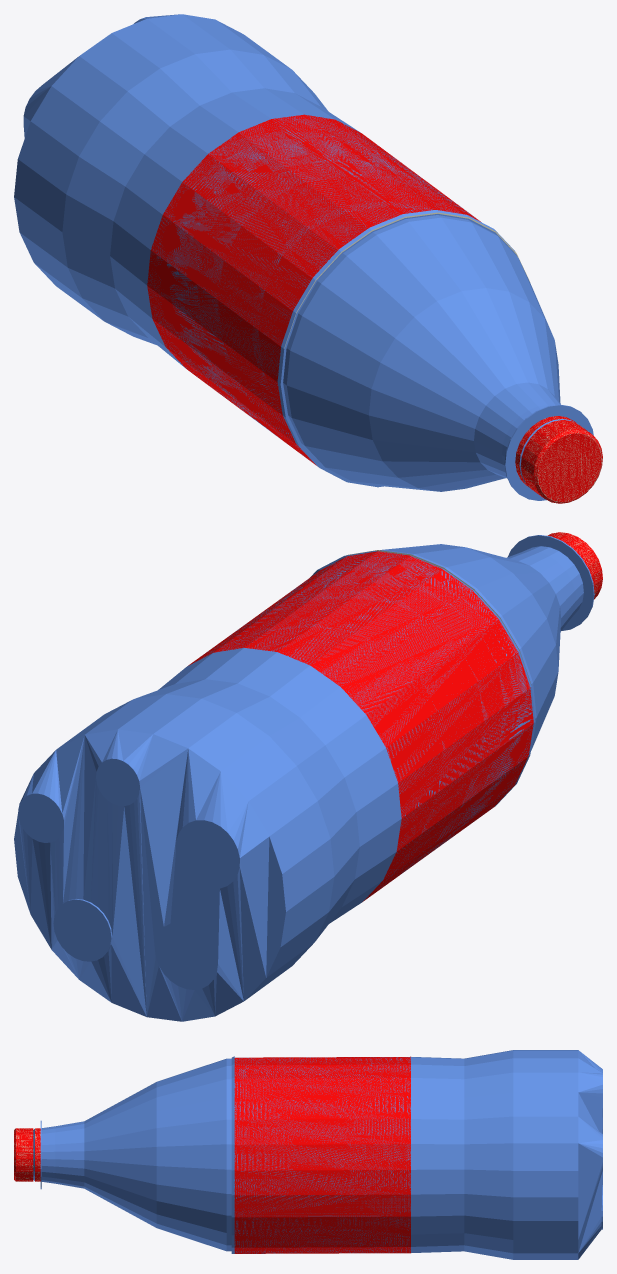
3 renders of one model, top to bottom at view 1: azimuth 30°, elevation 25°; view 2: azimuth 150°, elevation 25°; view 3: azimuth 270°, elevation 25°, orthographic. The views are drawn at different scales.
Parts seen in each view (by area): view 1: bottle l; view 2: bottle l; view 3: bottle l.
Boxes of the visible parts, box(x1,y1,x2,y2) form: bottle l: box(14, 14, 602, 503); bottle l: box(14, 532, 602, 1021); bottle l: box(14, 1050, 602, 1259).
Size of the model in its own units: 237 by 237 by 660.
